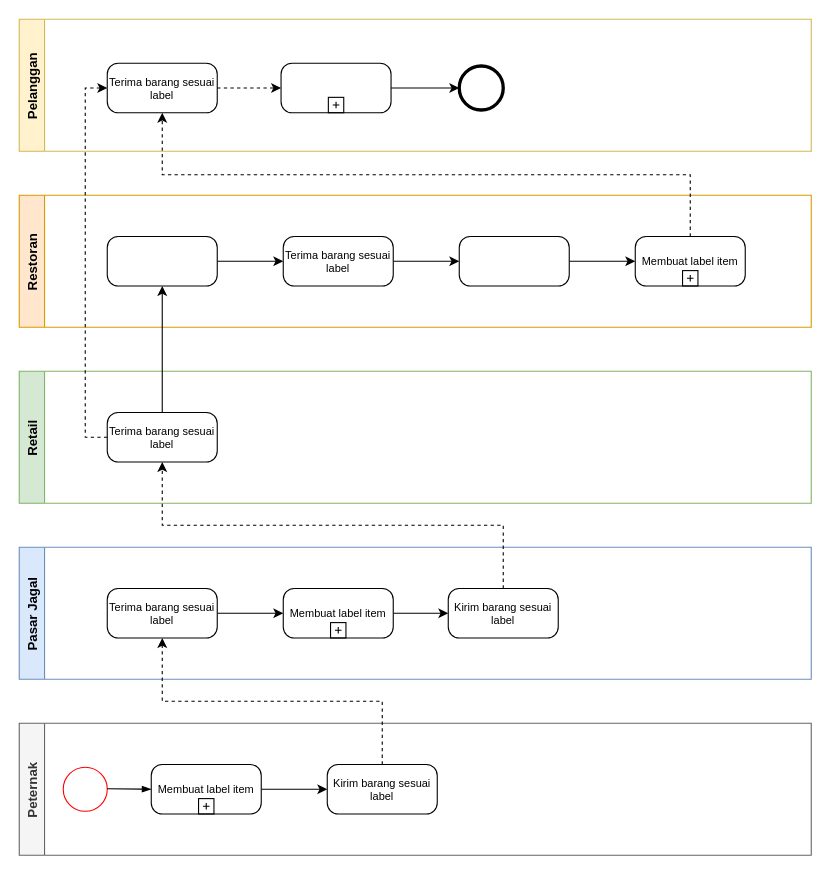
Image size: 831x875. Some labels were removed from this diagram. The centre of each missing label's shape, as x and y in pixels:
Beli barang sesuai label: (x=161, y=260)
Membaca label item saat membeli barang: (x=335, y=87)
Olah barang: (x=513, y=260)
